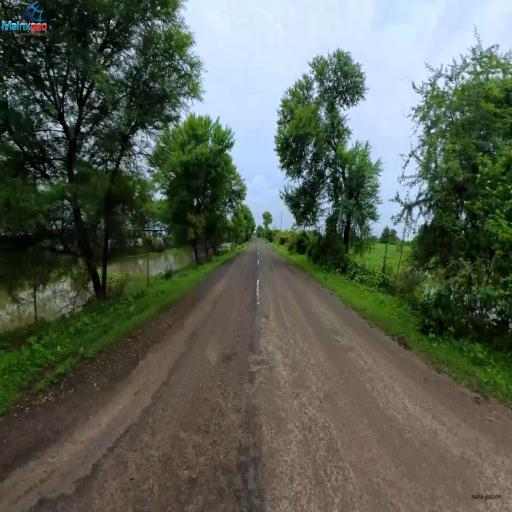ravelling: (205, 326, 380, 488)
